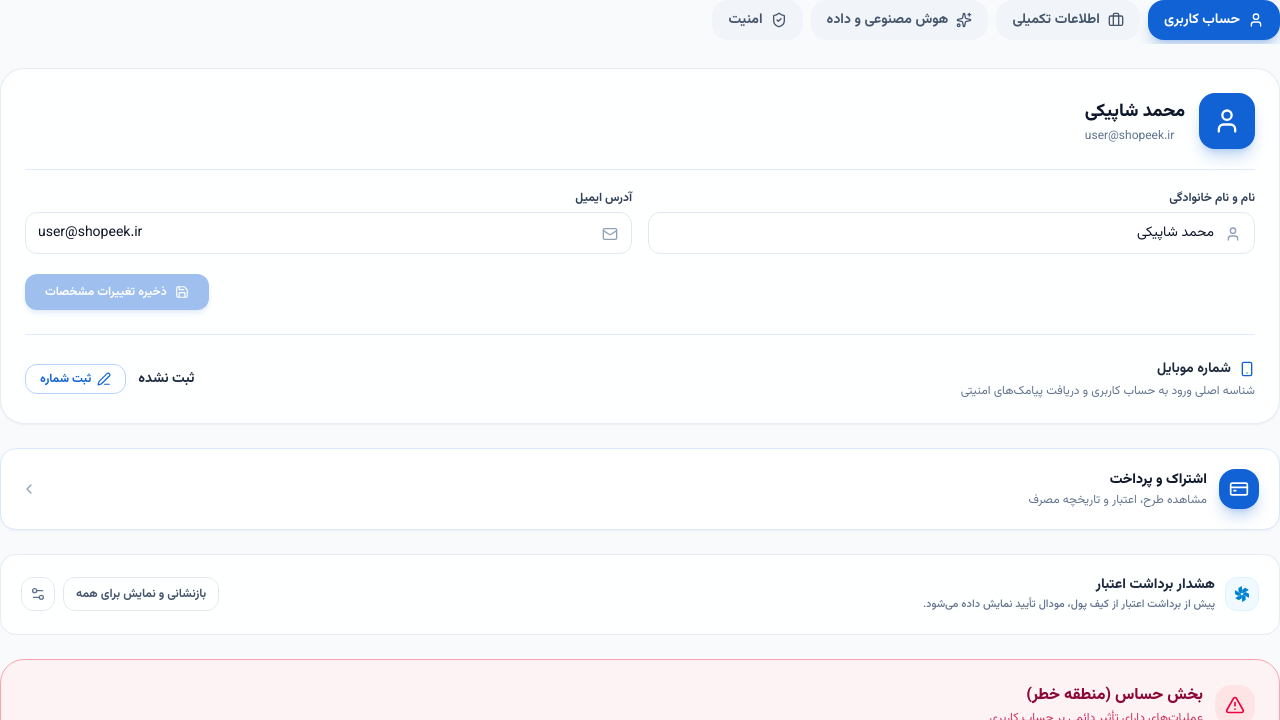
[page] SettingsPage Component & Guide Integration › revokes all other web sessions
The image size is (1280, 720).
Expected: the heading "محمد شاپیکی" is shown, [1085,98,1185,126]
Step 1. Click the button "امنیت" → (758, 20), box [712,0,803,40]
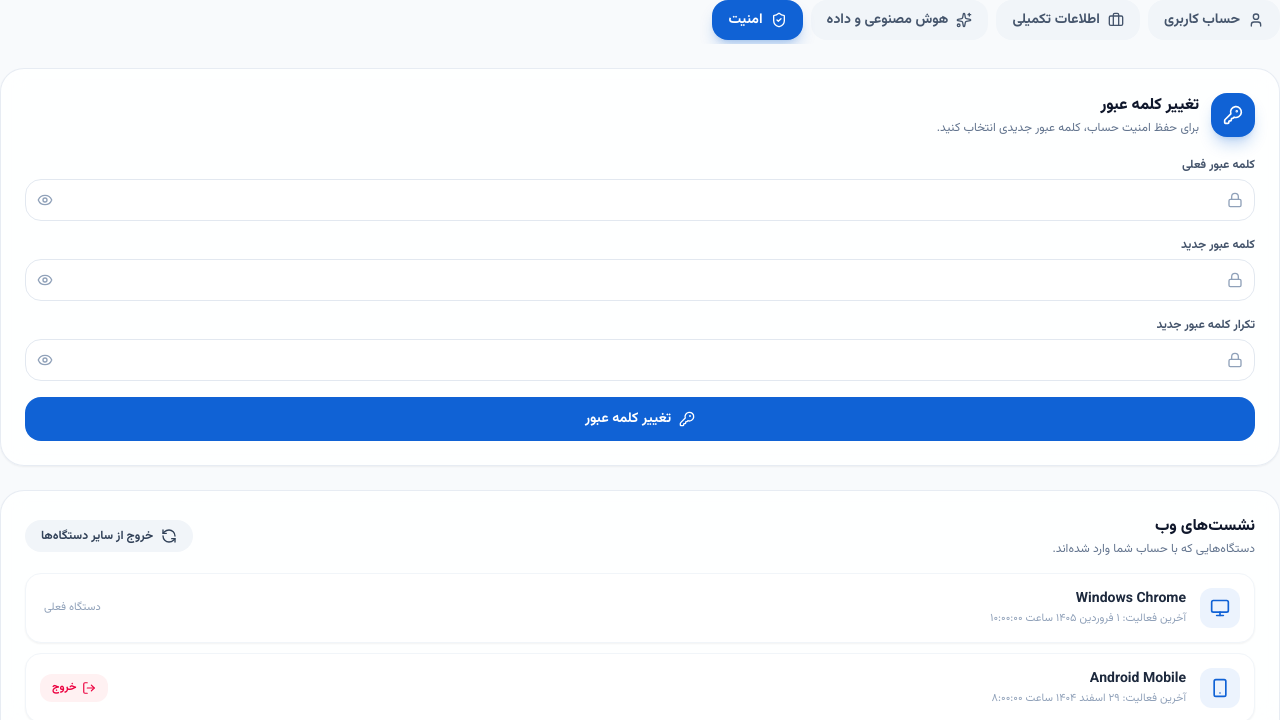
Step 2. Click the button "خروج از سایر دستگاه‌ها" → (109, 536), box [25,520,193,552]
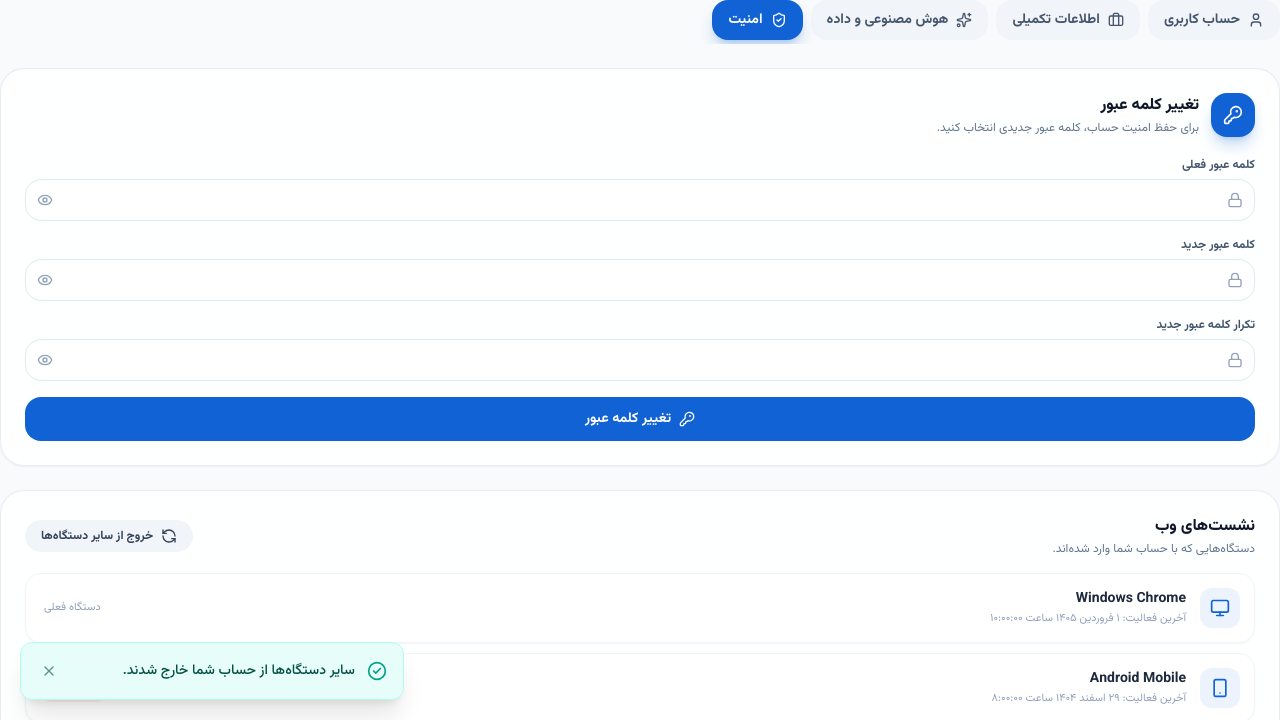
Expected: the text "سایر دستگاه‌ها از حساب شما خارج شدند." is shown, [123,661,355,681]
